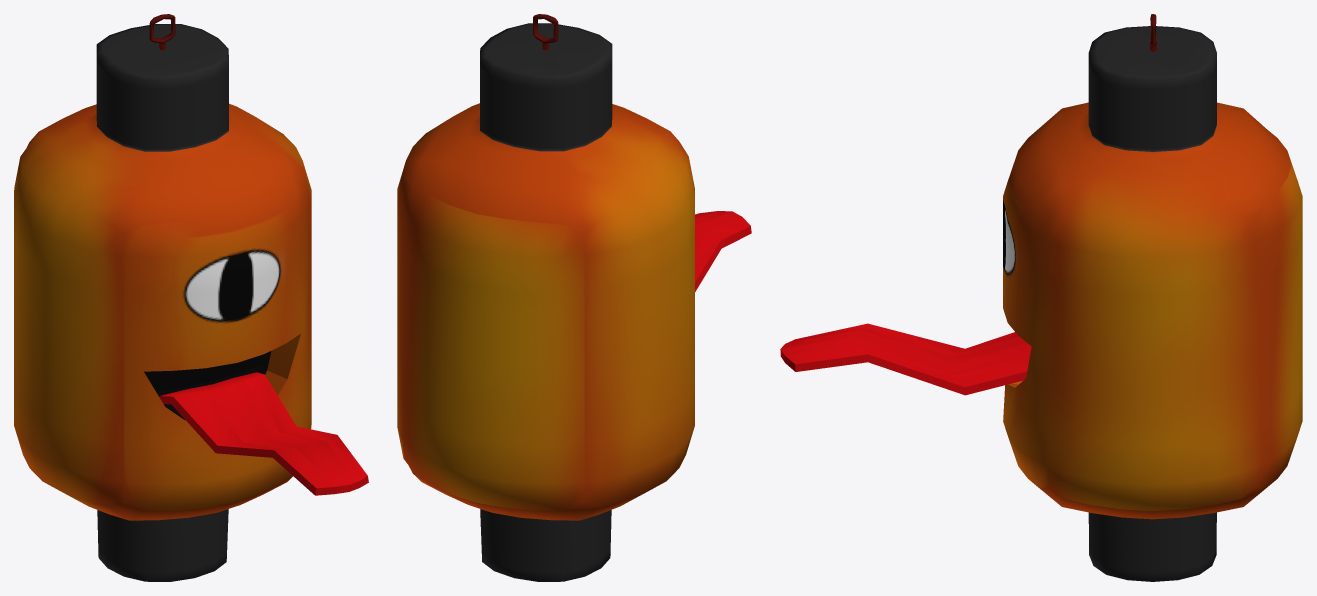
Rendered from tyoutinobake.fbx.
3 views of the same model, side by side, from view 1: azimuth 30°, elevation 25°; view 2: azimuth 150°, elevation 25°; view 3: azimuth 270°, elevation 25° (orthographic).
Visible parts, largest first — view 1: pCube2; view 2: pCube2; view 3: pCube2.
Part boxes in pixels (x1,y1,x2,y2): pCube2: [14, 14, 368, 581]; pCube2: [397, 14, 751, 581]; pCube2: [780, 14, 1302, 581].
Bounding box in the file's own units: 101 × 202 × 177.
